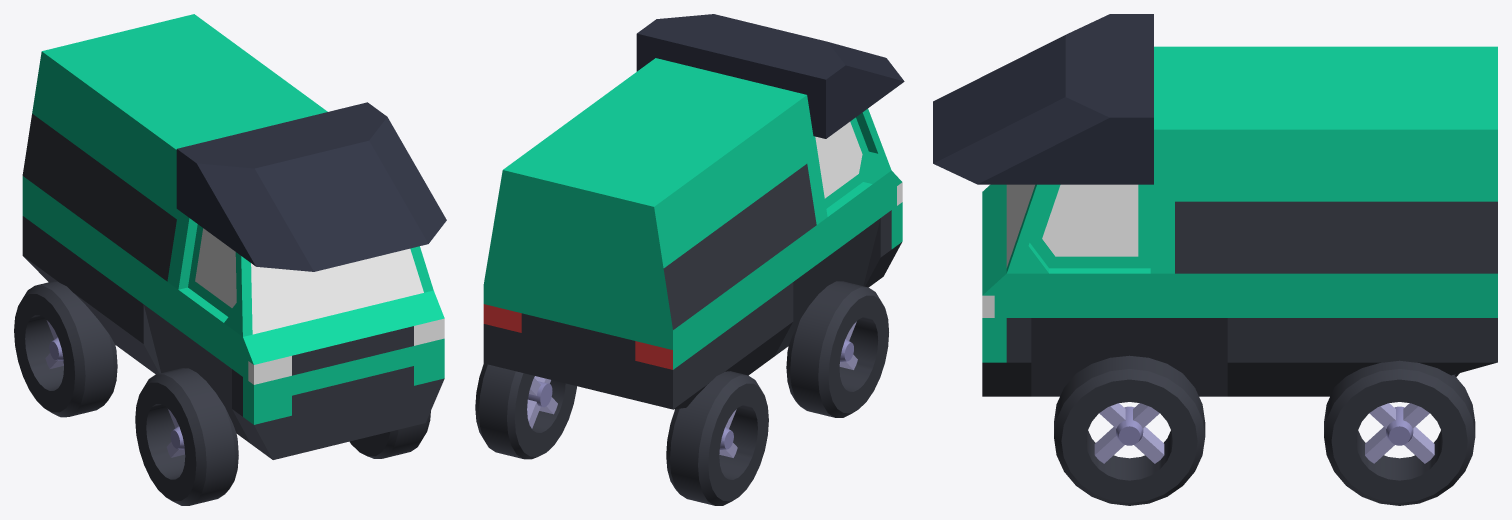
The model's file is Cap.fbx.
3 views of the same model, side by side, from view 1: azimuth 30°, elevation 25°; view 2: azimuth 150°, elevation 25°; view 3: azimuth 270°, elevation 25° (orthographic). The views are drawn at different scales.
Visible parts, largest first — view 1: window_low, body_topBackVan, body_frontTruckFlat, wheel_spokes (×3), body_topVan, body_edge, body_backSolid; view 2: body_topBackVan, wheel_spokes (×3), body_backSolid, body_topVan, window_low, body_edge, body_frontTruckFlat; view 3: body_topBackVan, body_topVan, wheel_spokes (×2), window_low, body_edge, body_backSolid, body_frontTruckFlat.
Part boxes in pixels (<box>): window_low: <box>176,102,446,271</box>; body_topBackVan: <box>22,14,303,255</box>; body_frontTruckFlat: <box>243,290,444,459</box>; wheel_spokes (×3): <box>14,281,430,505</box>; body_topVan: <box>133,94,433,336</box>; body_edge: <box>132,256,261,451</box>; body_backSolid: <box>22,176,151,370</box>; body_topBackVan: <box>484,90,782,330</box>; wheel_spokes (×3): <box>475,281,888,505</box>; body_backSolid: <box>483,251,782,409</box>; body_topVan: <box>612,58,891,249</box>; window_low: <box>636,14,904,138</box>; body_edge: <box>763,170,891,364</box>; body_frontTruckFlat: <box>873,171,902,283</box>; body_topBackVan: <box>1252,46,1497,273</box>; body_topVan: <box>1006,46,1252,273</box>; wheel_spokes (×2): <box>1054,355,1475,505</box>; window_low: <box>933,14,1153,184</box>; body_edge: <box>1006,268,1252,396</box>; body_backSolid: <box>1252,273,1497,396</box>; body_frontTruckFlat: <box>982,184,1006,396</box>.
Size of the model in its own units: 12.31 by 17.08 by 23.
